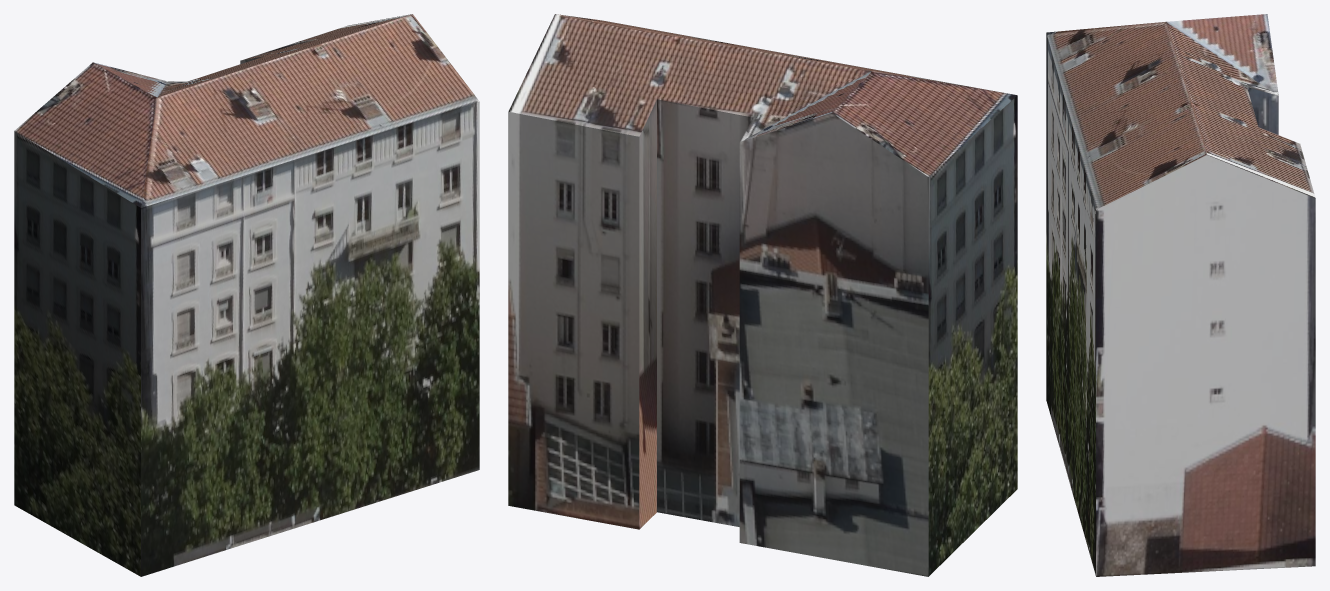
3 views of the same model, side by side, from view 1: azimuth 30°, elevation 25°; view 2: azimuth 150°, elevation 25°; view 3: azimuth 270°, elevation 25° (orthographic). The views are drawn at different scales.
Parts seen in each view (by area): view 1: Z_UP; view 2: Z_UP; view 3: Z_UP.
Part boxes in pixels (x1,y1,x2,y2): Z_UP: (14, 14, 479, 576); Z_UP: (508, 14, 1017, 576); Z_UP: (1046, 14, 1315, 576).
Size of the model in its own units: 23.52 by 24.39 by 14.29.
2 materials, 1 textured.
